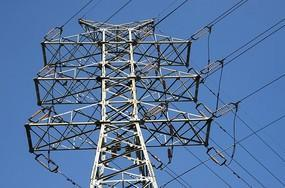power_tower: (28, 17, 228, 188)
